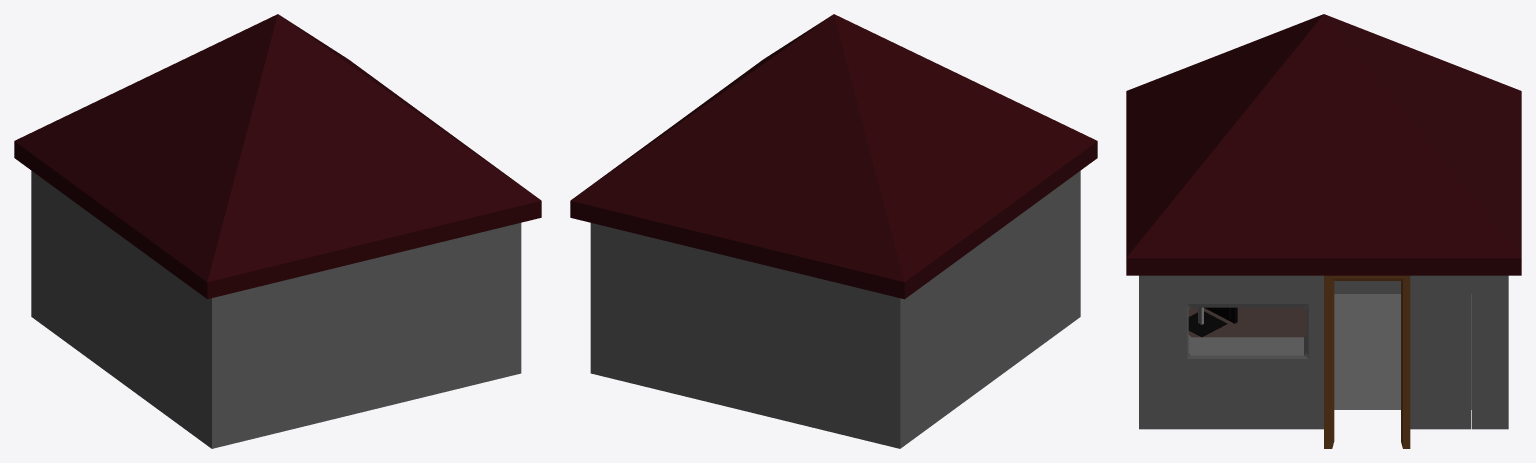
File: güvenlik_kulübesi.fbx
3 renders of one model, left to right at view 1: azimuth 30°, elevation 25°; view 2: azimuth 150°, elevation 25°; view 3: azimuth 270°, elevation 25°, orthographic. The views are drawn at different scales.
Visible parts, largest first — view 1: Plane; view 2: Plane; view 3: Plane.
Boxes of the visible parts, x1,y1,x2,y2 form: Plane: (14, 14, 541, 448); Plane: (570, 14, 1097, 448); Plane: (1126, 14, 1521, 448).
Bounding box in the file's own units: 500 × 500 × 500.
